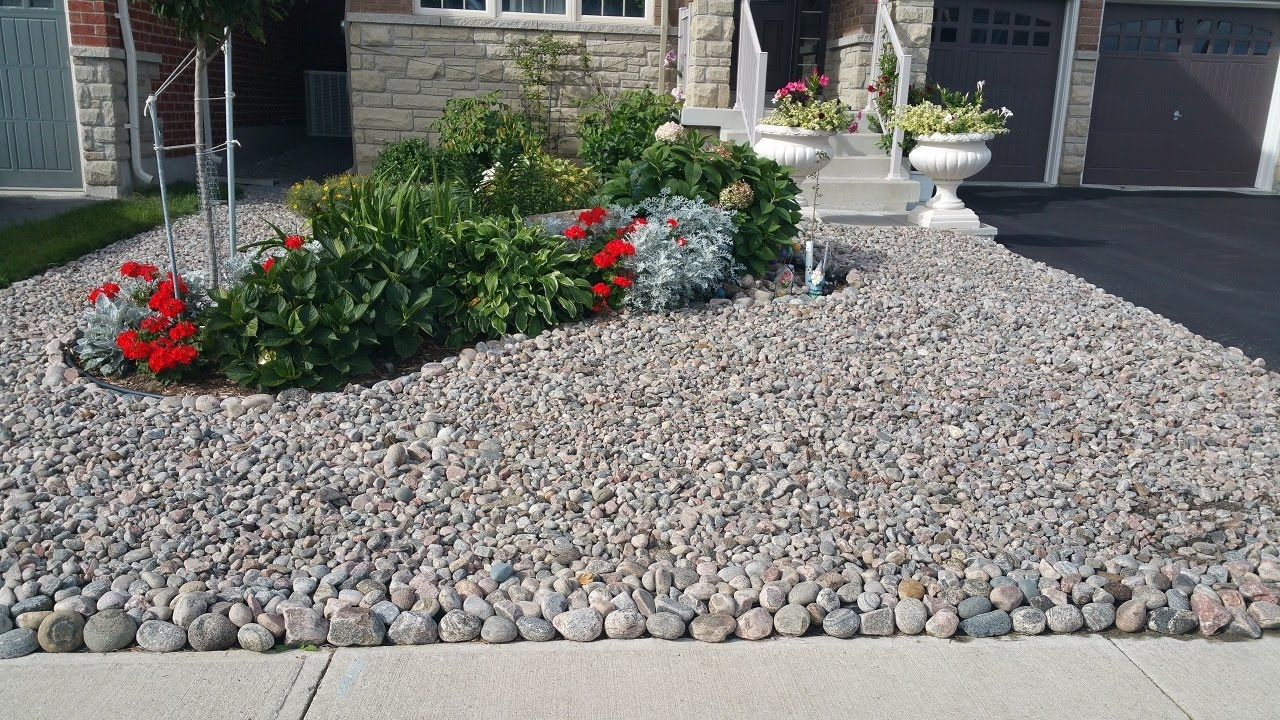rock: (0, 375, 1280, 639), (836, 224, 1253, 370), (511, 296, 821, 372)
